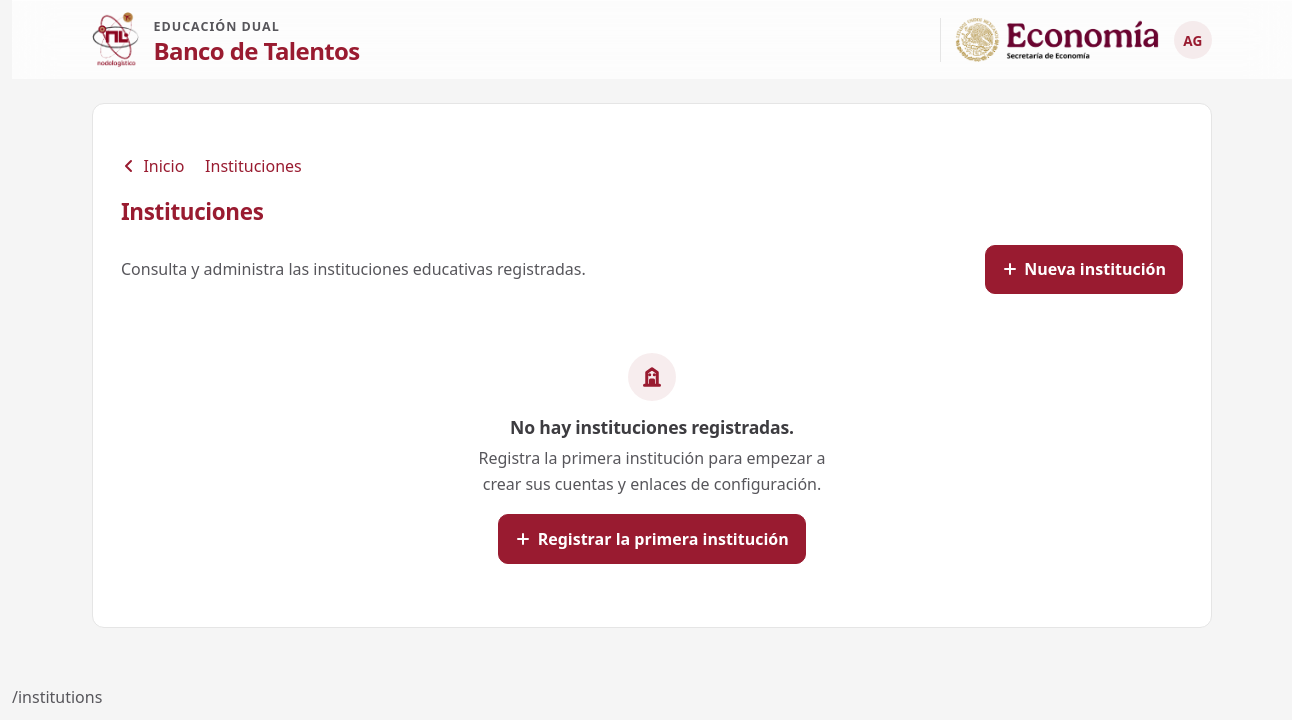
it: consulta de instituciones › muestra un listado vacío y permite abrir el formulario de registro
Expected: the heading "No hay instituciones registradas." is shown, [510, 415, 794, 439]
Click the link "Nueva institución" at (1084, 269), box [985, 245, 1183, 294]
(page scrolled)
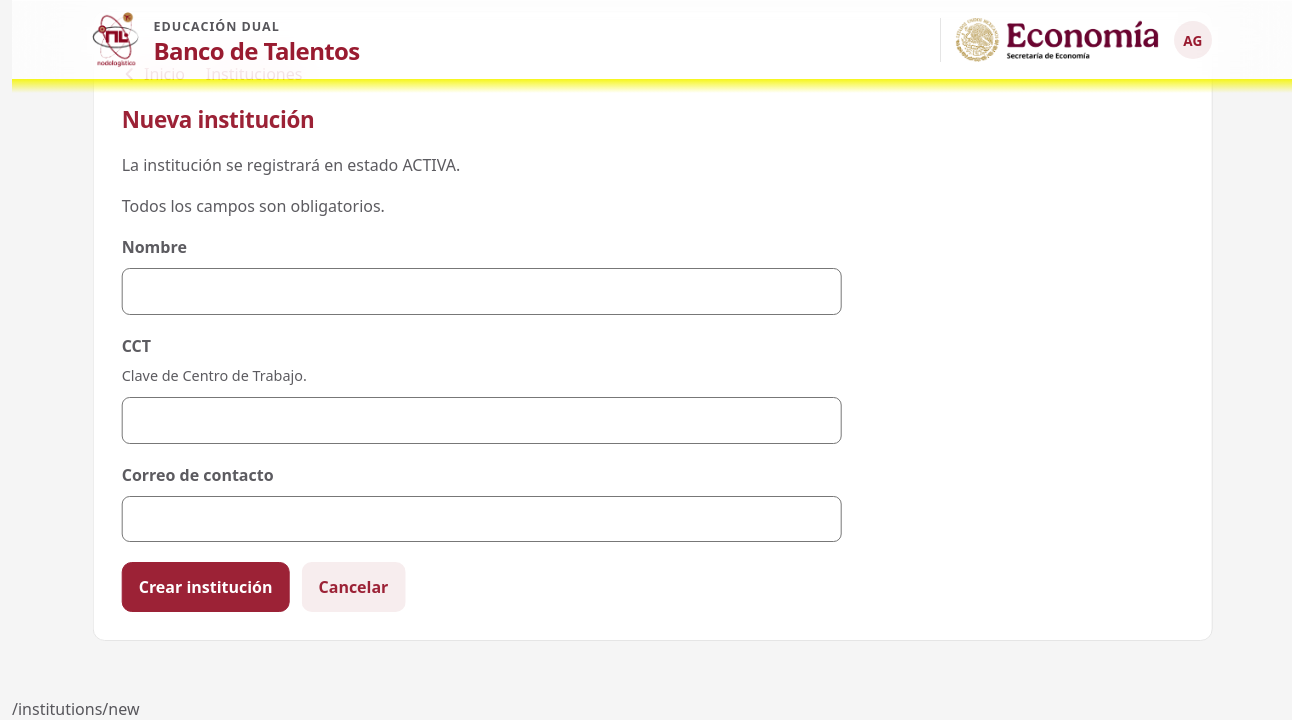
Now the button "Crear institución" is shown, box [122, 562, 289, 612]
Now the text named "Ruta actual" reads "/institutions/new", box [12, 698, 140, 719]
